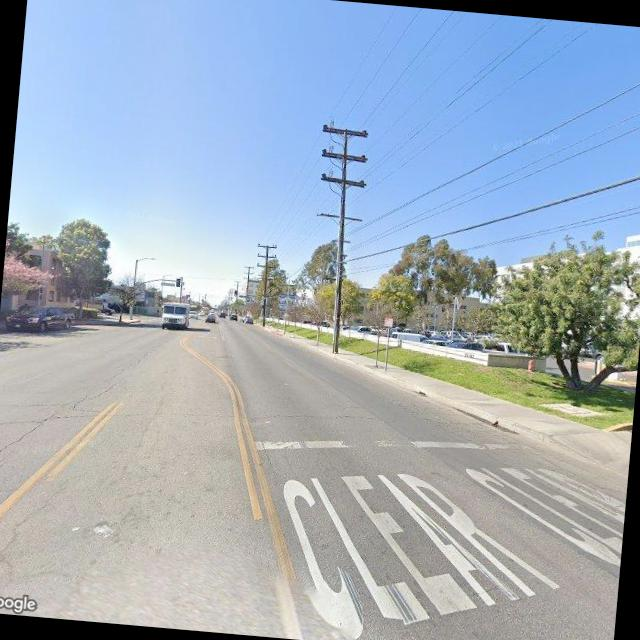crack: (0, 379, 380, 452), (0, 361, 118, 476)
